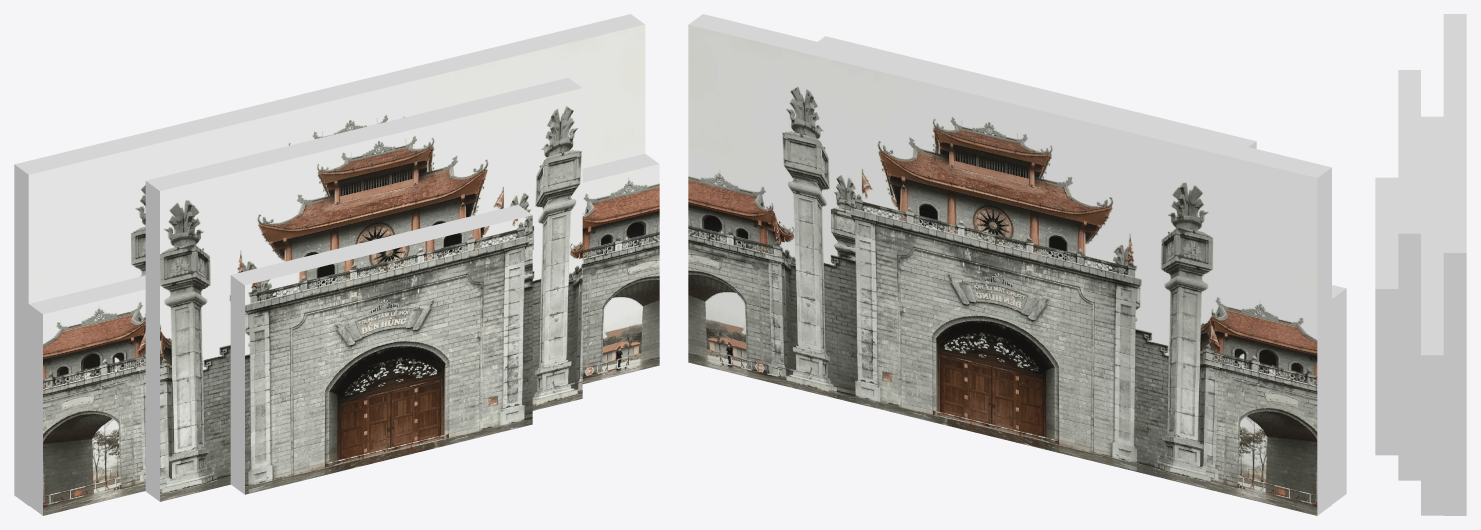
Rendered from denhung.glb.
3 views of the same model, side by side, from view 1: azimuth 30°, elevation 25°; view 2: azimuth 150°, elevation 25°; view 3: azimuth 270°, elevation 25° (orthographic). The views are drawn at different scales.
Parts seen in each view (by area): view 1: denhung; view 2: denhung; view 3: denhung.
Part boxes in pixels (box(x1,y1,x2,y2)): denhung: box(14, 14, 659, 515); denhung: box(688, 14, 1346, 515); denhung: box(1375, 14, 1466, 515).
Bounding box in the file's own units: 5.65 × 2.9 × 0.9092.
1 material, 1 textured.
